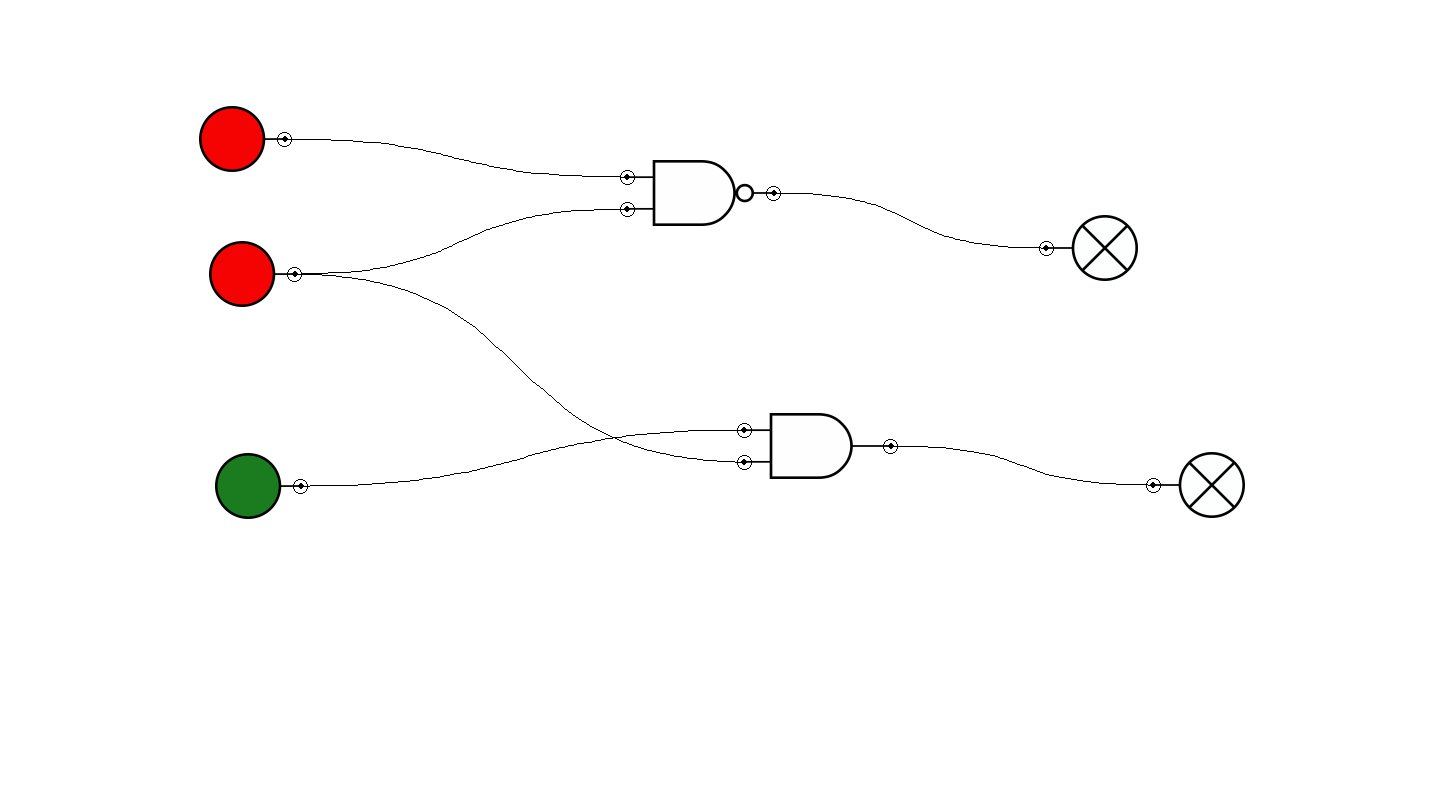and: (737, 413, 898, 479)
bulb: (1039, 215, 1138, 281), (1146, 452, 1245, 518)
nand: (620, 160, 781, 226)
switch_False: (199, 106, 292, 172), (209, 241, 302, 307)
switch_True: (215, 453, 308, 519)
